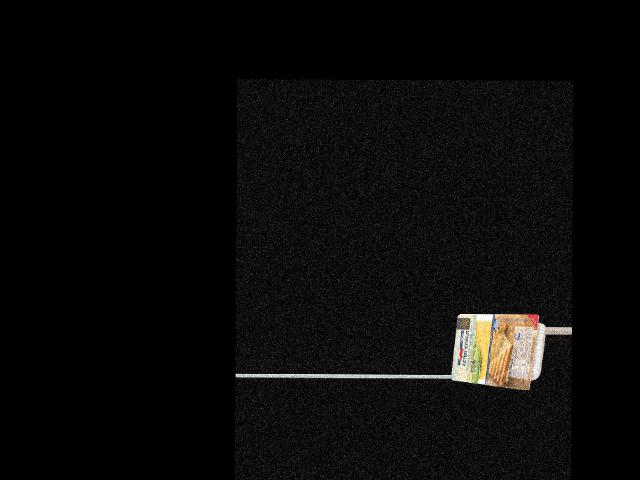cheese: (452, 316, 546, 388)
